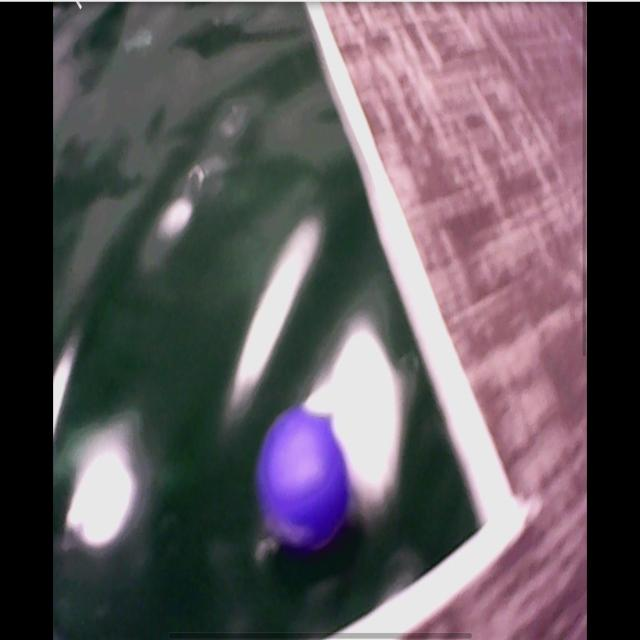ball: (259, 409, 350, 550)
